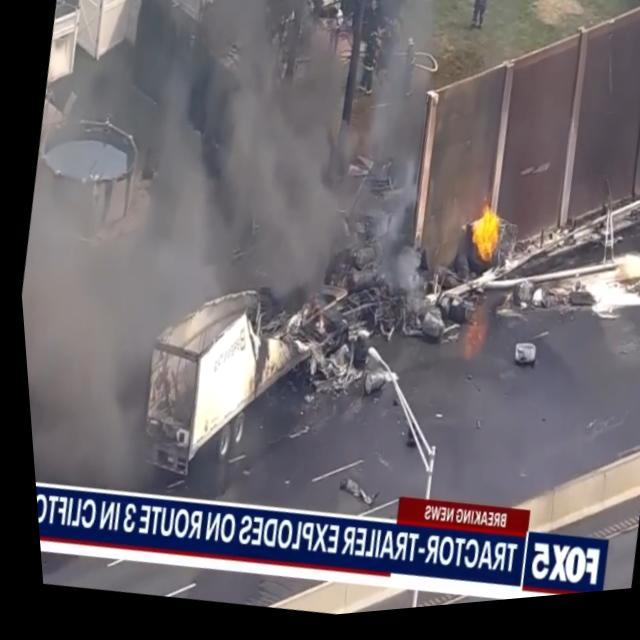fire: (456, 207, 508, 277)
